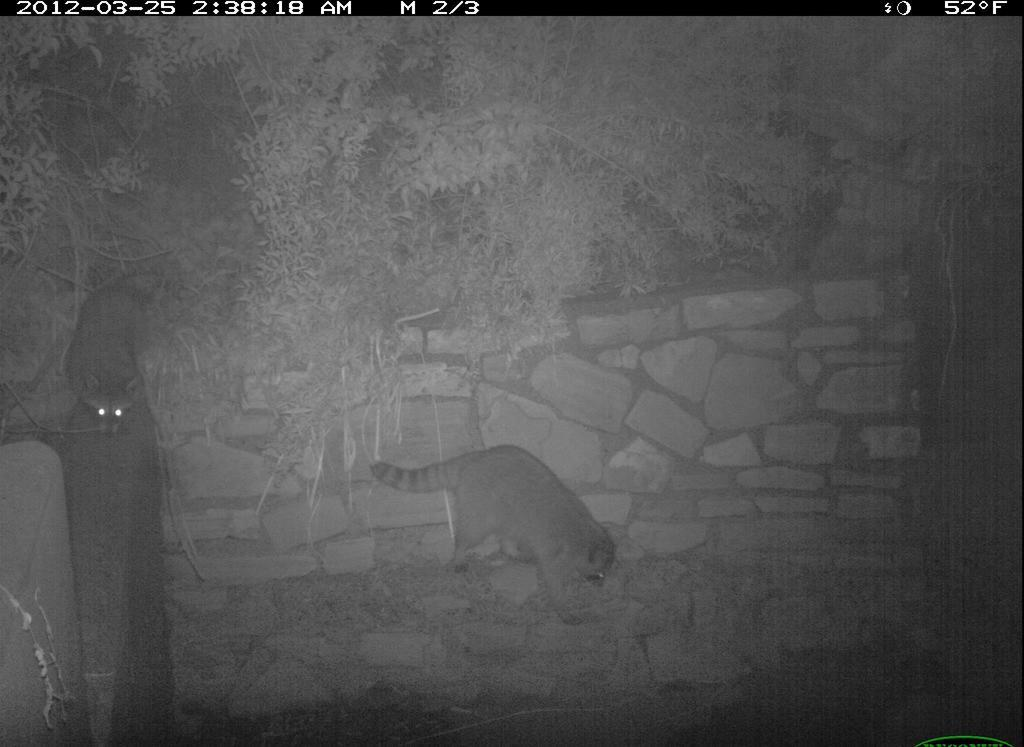raccoon: (368, 429, 638, 628), (59, 267, 163, 446)
